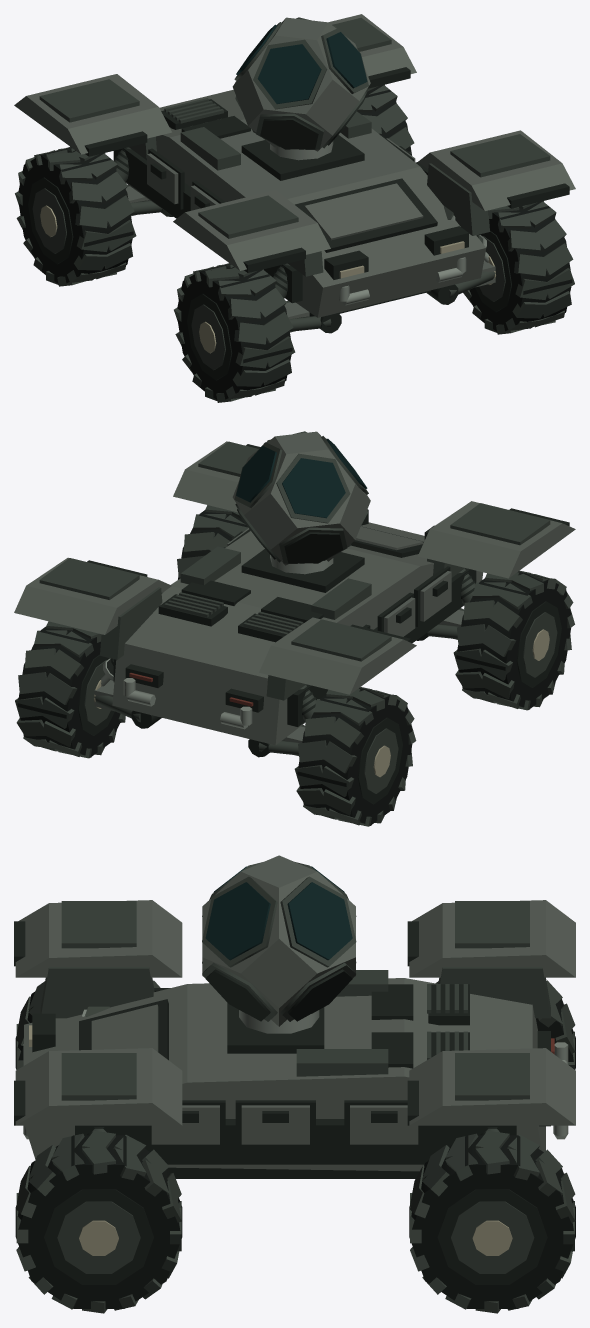
The picture shows the model from 3 angles, top to bottom: view 1: azimuth 30°, elevation 25°; view 2: azimuth 150°, elevation 25°; view 3: azimuth 270°, elevation 25°; orthographic projection. The views are drawn at different scales.
Parts seen in each view (by area): view 1: XB12_HULL, WHEEL_RL, WHEEL_FL, WHEEL_FR, SENSOR_INSTRUMENTS, SENSOR_HEX_SPHERE, WHEEL_RR, SUSP_ARM_FL, SUSP_ARM_FR, SUSP_ARM_RL; view 2: XB12_HULL, WHEEL_FL, WHEEL_RL, WHEEL_RR, SENSOR_INSTRUMENTS, SENSOR_HEX_SPHERE, WHEEL_FR, SUSP_ARM_RR, SUSP_ARM_RL, SUSP_ARM_FL; view 3: XB12_HULL, WHEEL_FR, WHEEL_RR, SENSOR_INSTRUMENTS, SENSOR_HEX_SPHERE, WHEEL_RL, WHEEL_FL.
Boxes of the visible parts, x1,y1,x2,y2 form: XB12_HULL: [14, 14, 575, 317]; WHEEL_RL: [15, 146, 136, 286]; WHEEL_FL: [174, 263, 295, 402]; WHEEL_FR: [463, 201, 574, 334]; SENSOR_INSTRUMENTS: [234, 17, 368, 149]; SENSOR_HEX_SPHERE: [232, 17, 370, 151]; WHEEL_RR: [357, 84, 414, 155]; SUSP_ARM_FL: [284, 300, 341, 333]; SUSP_ARM_FR: [426, 261, 495, 304]; SUSP_ARM_RL: [125, 185, 173, 216]; XB12_HULL: [14, 441, 575, 745]; WHEEL_FL: [453, 570, 574, 710]; WHEEL_RL: [294, 687, 416, 826]; WHEEL_RR: [15, 621, 125, 758]; SENSOR_INSTRUMENTS: [234, 431, 368, 563]; SENSOR_HEX_SPHERE: [232, 431, 370, 565]; WHEEL_FR: [177, 505, 248, 579]; SUSP_ARM_RR: [94, 680, 161, 728]; SUSP_ARM_RL: [248, 725, 305, 757]; SUSP_ARM_FL: [416, 608, 464, 640]; XB12_HULL: [14, 900, 575, 1178]; WHEEL_FR: [15, 1130, 182, 1313]; WHEEL_RR: [409, 1130, 575, 1313]; SENSOR_INSTRUMENTS: [202, 862, 356, 1021]; SENSOR_HEX_SPHERE: [202, 855, 355, 1026]; WHEEL_RL: [435, 980, 575, 1069]; WHEEL_FL: [15, 980, 160, 1069].
Bounding box in the file's own units: 2.88 × 2.26 × 3.37.
